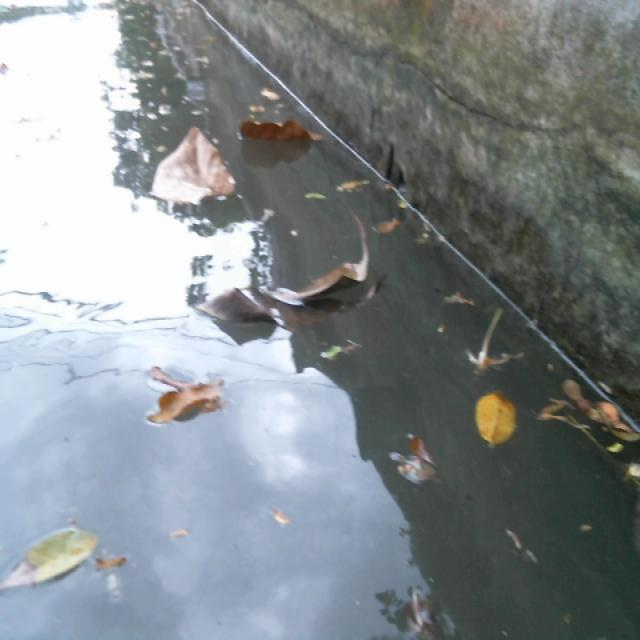Big-leaf: (185, 215, 371, 341), (148, 110, 236, 210), (142, 364, 235, 446), (240, 99, 320, 147)
Small-leaf: (0, 495, 114, 599), (465, 382, 524, 459), (392, 433, 441, 489), (598, 391, 630, 436), (335, 174, 383, 201), (100, 545, 146, 572), (446, 283, 481, 318), (289, 179, 323, 203), (360, 222, 415, 236), (622, 452, 640, 488)
